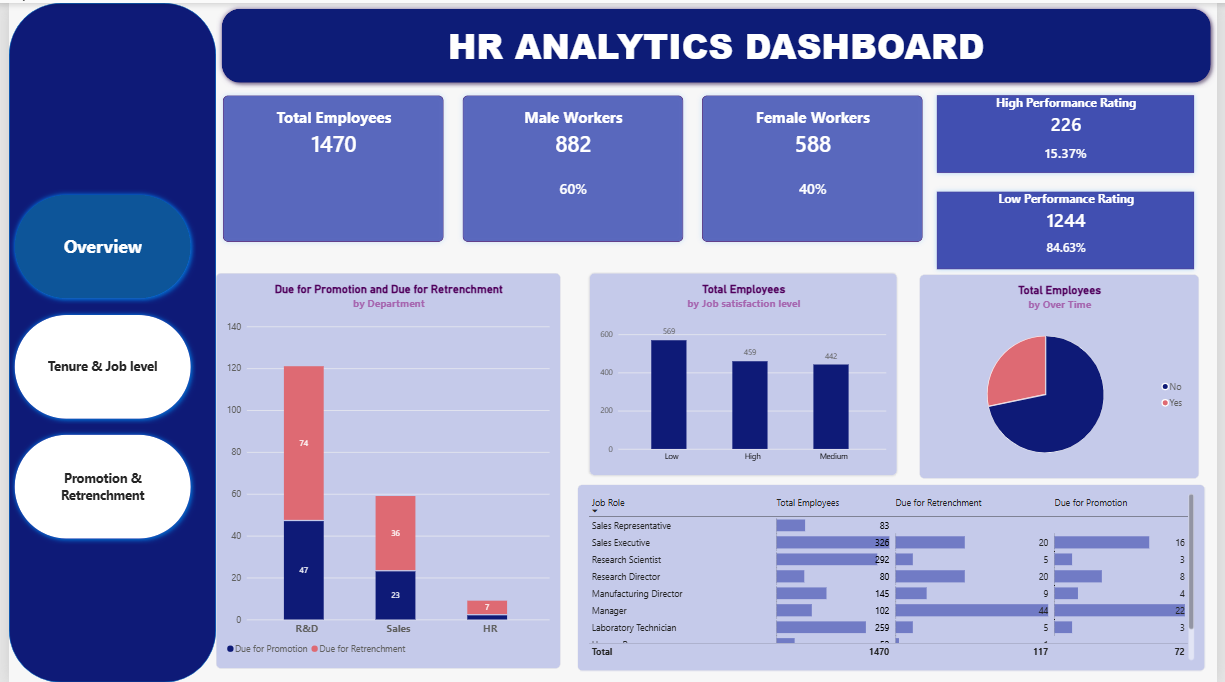

This screenshot's page, from the dashboard's own definition file:
{"tool":"powerbi","page":{"name":"Overview","canvas":[1920,1080],"ordinal":0},"visuals":[{"type":"shape","box":[329.3,0,1591.4,136],"z":0},{"type":"columnChart","fields":{"Y":["DAX Measures.Due for Promotion","DAX Measures.Due for Retrenchment"],"Category":["Table1.Department"]},"box":[329.3,430.7,548.3,629.5],"z":0,"group":"g1"},{"type":"shape","box":[0,0,329.3,1080.8],"z":1,"group":"g2"},{"type":"pageNavigator","box":[0,295.9,298.2,567.8],"z":9,"group":"g2"},{"type":"cardVisual","fields":{"Data":["DAX Measures.Total Employees","DAX Measures.Male Workers","DAX Measures.Female Workers"]},"box":[329.3,136,1135.7,255.3],"z":1000},{"type":"cardVisual","fields":{"Data":["DAX Measures.High Performance Rating","DAX Measures.Low Performance Ratin"]},"box":[1464.4,136,431.9,298.2],"z":1000,"group":"g1"},{"type":"group","id":"g1","title":"Group 1","box":[329.3,136,1572.3,925.7],"z":2000},{"type":"clusteredColumnChart","fields":{"Category":["Table1.Job satisfaction level"],"Y":["DAX Measures.Total Employees"]},"box":[922.7,430.7,489.5,322.2],"z":2000,"group":"g1"},{"type":"pieChart","fields":{"Category":["Table1.Over Time"],"Y":["DAX Measures.Total Employees"]},"box":[1447.9,431.4,444.8,324.7],"z":3000,"group":"g1"},{"type":"tableEx","fields":{"Values":["Table1.Job Role","DAX Measures.Total Employees","DAX Measures.Due for Retrenchment","DAX Measures.Due for Promotion"]},"box":[903.6,765.4,998.1,296.3],"z":4000,"group":"g1"},{"type":"group","id":"g2","title":"Group 4","box":[0,0,329.3,1080.8],"z":5000}]}

Visuals, with their boxes in screenshot pixels (x1, y1, x2, y2), scaled from the page's 1920x1080 canvas onto the 1225x682 screenshot:
shape: (x1=210, y1=0, x2=1224, y2=86)
columnChart - DAX Measures.Due for Promotion x DAX Measures.Due for Retrenchment: (x1=210, y1=272, x2=560, y2=669)
shape: (x1=0, y1=0, x2=210, y2=681)
pageNavigator: (x1=0, y1=187, x2=190, y2=545)
cardVisual - DAX Measures.Total Employees x DAX Measures.Male Workers: (x1=210, y1=86, x2=935, y2=247)
cardVisual - DAX Measures.High Performance Rating x DAX Measures.Low Performance Ratin: (x1=934, y1=86, x2=1210, y2=274)
"Group 1" group: (x1=210, y1=86, x2=1213, y2=670)
clusteredColumnChart - Table1.Job satisfaction level x DAX Measures.Total Employees: (x1=589, y1=272, x2=901, y2=475)
pieChart - Table1.Over Time x DAX Measures.Total Employees: (x1=924, y1=272, x2=1208, y2=477)
tableEx - Table1.Job Role x DAX Measures.Total Employees: (x1=577, y1=483, x2=1213, y2=670)
"Group 4" group: (x1=0, y1=0, x2=210, y2=681)
